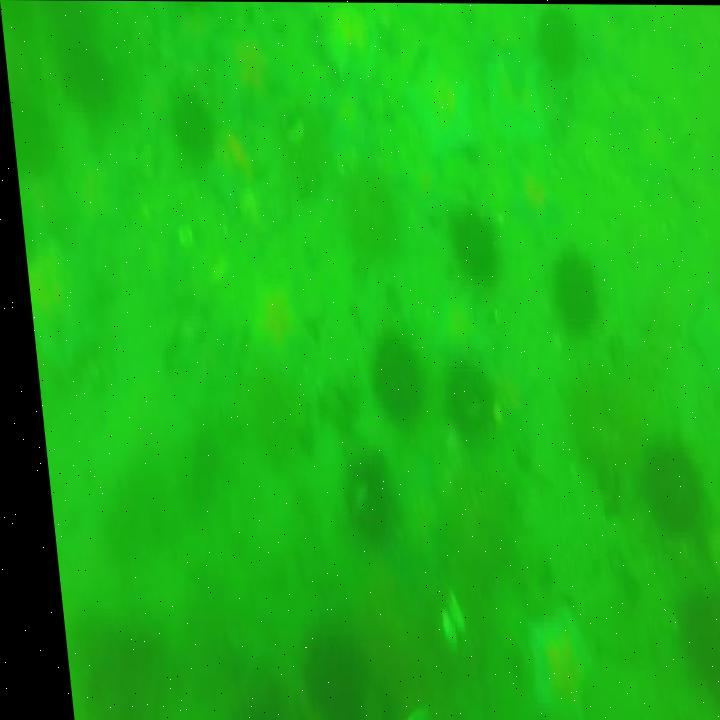echinus: (651, 580, 720, 692), (620, 441, 690, 532), (361, 327, 418, 425), (55, 24, 115, 114), (541, 247, 599, 340), (289, 632, 353, 713), (430, 360, 493, 440), (439, 203, 495, 282), (163, 86, 212, 158), (349, 459, 393, 539), (531, 16, 583, 75), (14, 93, 48, 182)
scallop: (424, 589, 454, 646)
starfish: (228, 271, 317, 396), (514, 611, 583, 720)
